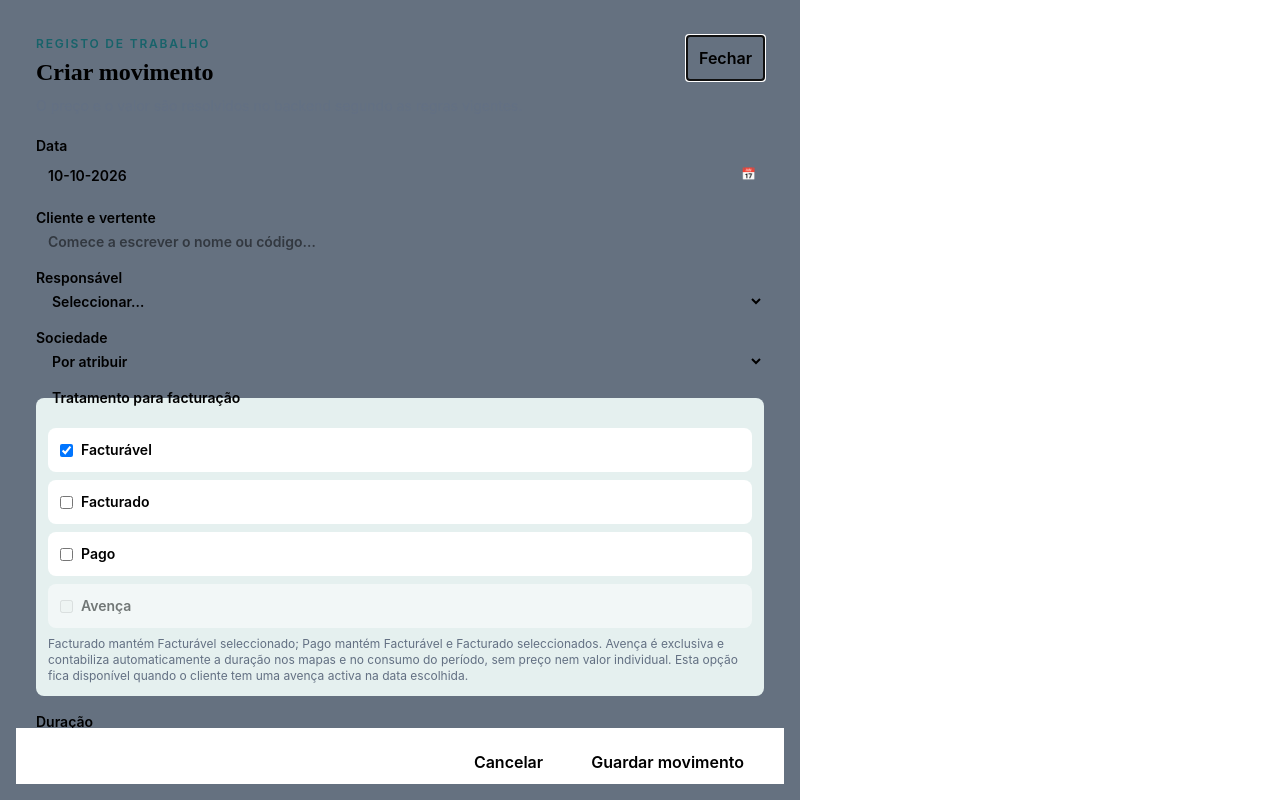
Test case: movimentos controlados › fecha as sugestões ao sair do cliente vazio ou incompleto, sem obrigar a preenchê-lo primeiro
This screenshot has width=1280, height=800.
Step 1. Click the dropdown labelled "Cliente e vertente" → (400, 242), box [36, 232, 764, 252]
(page scrolled)
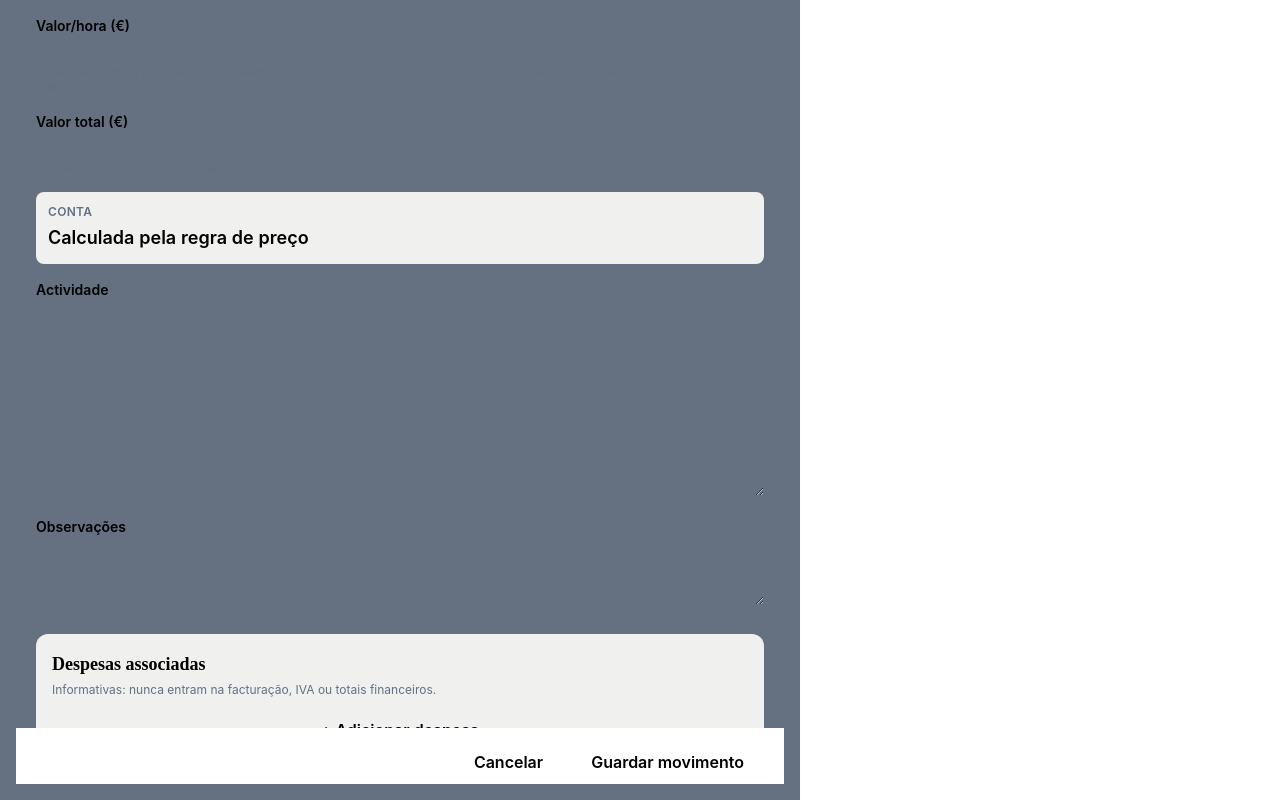
Step 2. Click the text box labelled "Actividade" → (400, 400), box [36, 304, 764, 496]
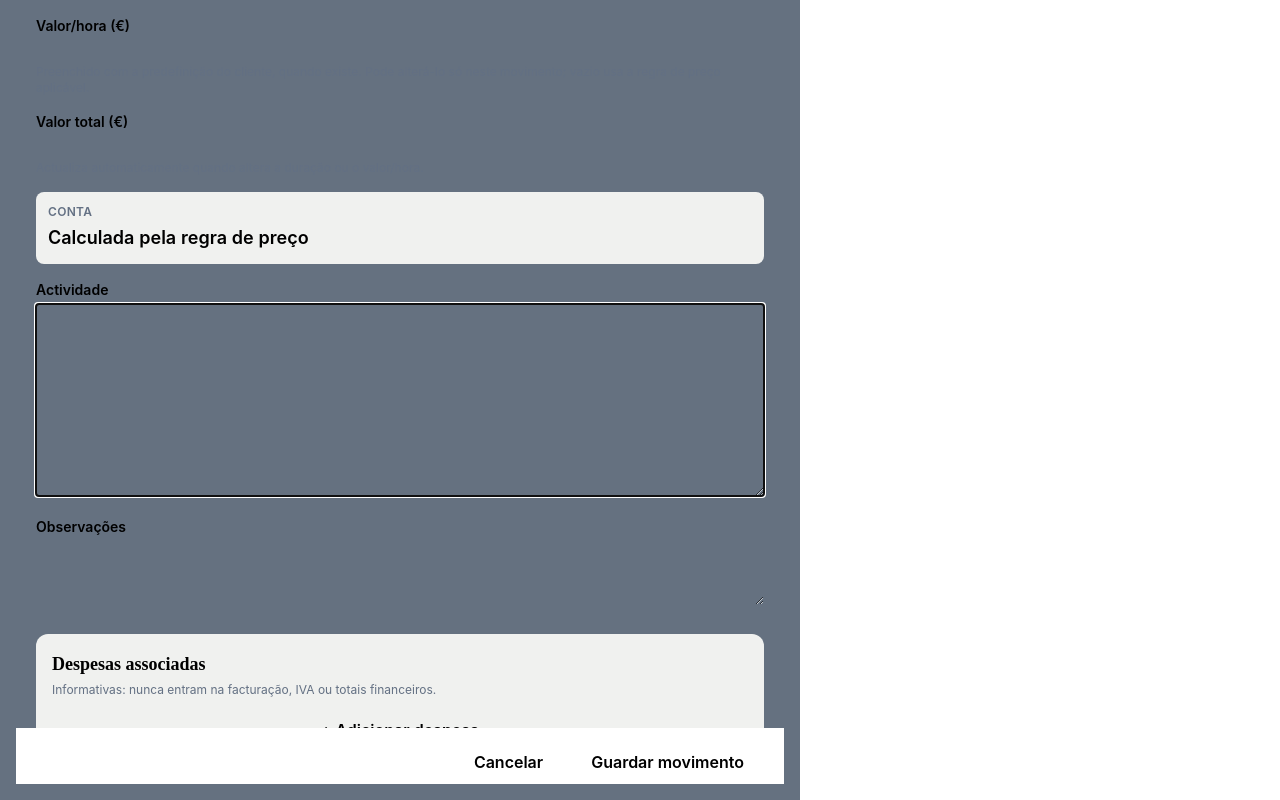
Step 3. Type "Preenchida antes do cliente" into the text box labelled "Actividade" → (400, 400), box [36, 304, 764, 496]
(page scrolled)
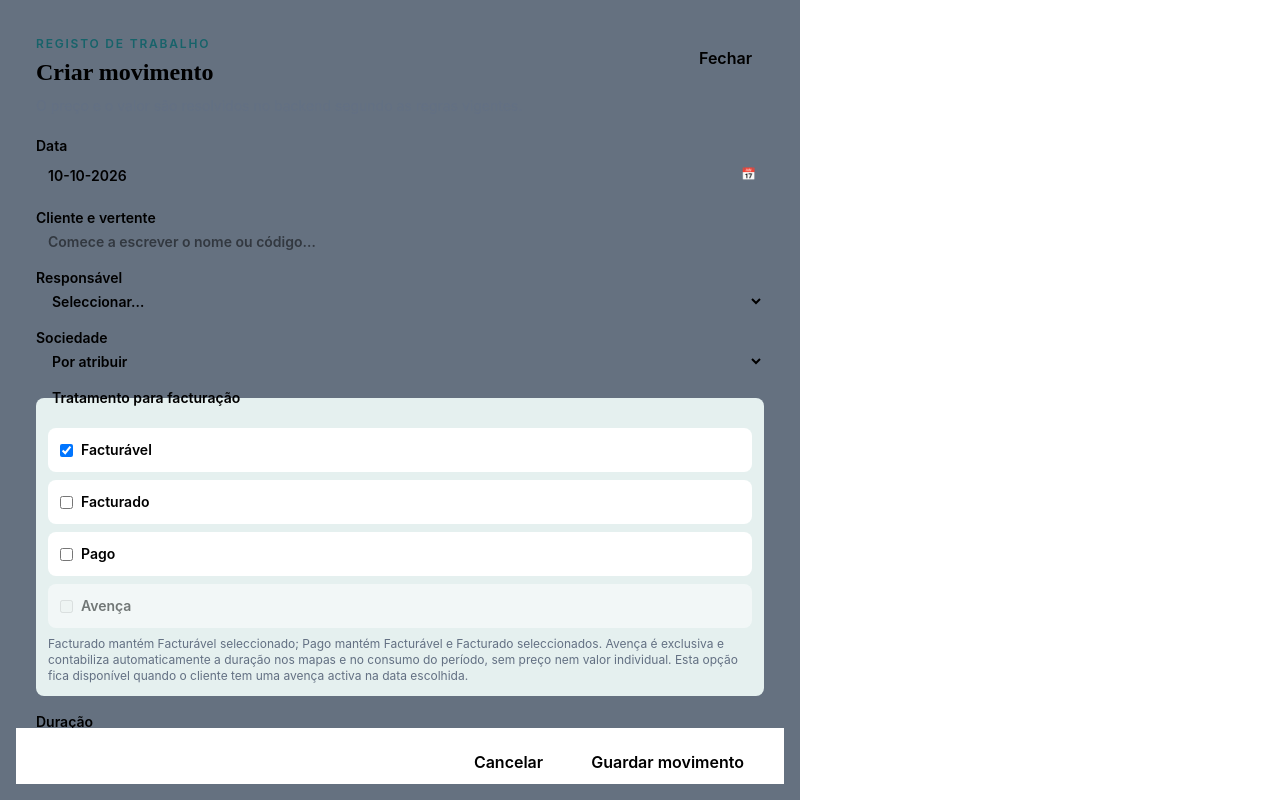
Step 4. Type "Cliente" into the dropdown labelled "Cliente e vertente" → (400, 242), box [36, 232, 764, 252]
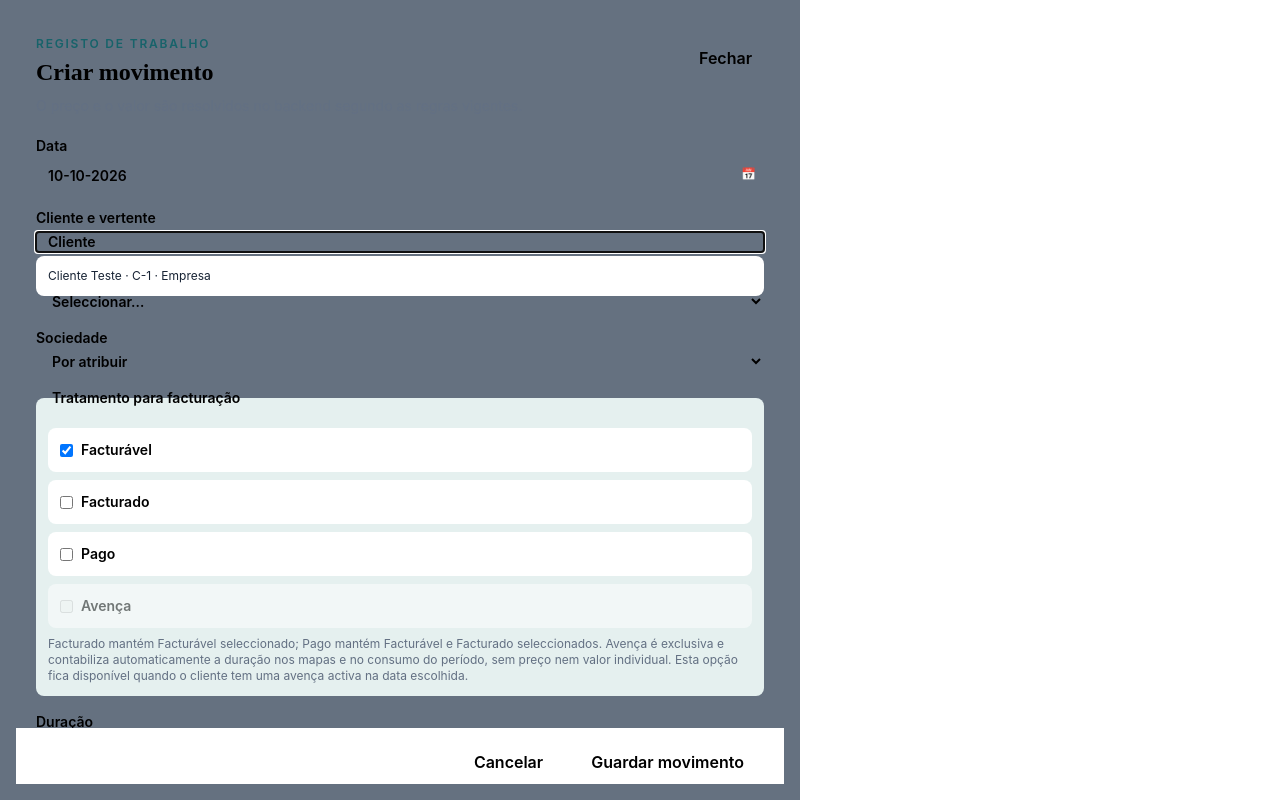
Check: the list is shown, box [36, 256, 764, 296]
Step 5. Click the heading "Criar movimento" → (125, 72), box [36, 59, 214, 85]
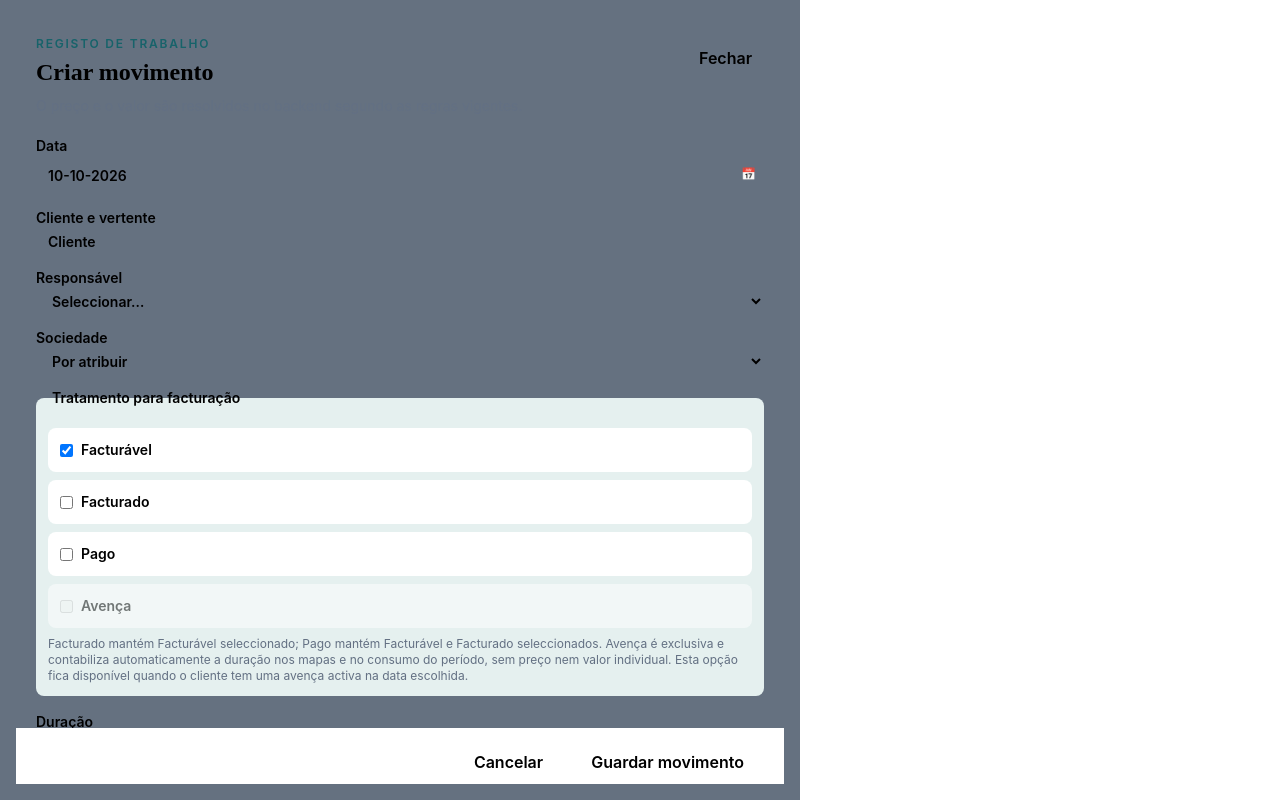
Check: the button "Guardar movimento" is disabled, box [571, 740, 764, 784]
Check: the list is gone
